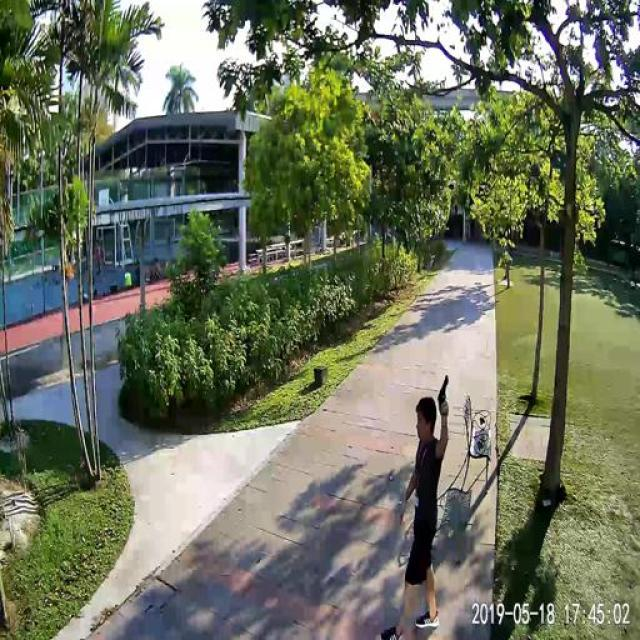Gun: (430, 371, 457, 413)
